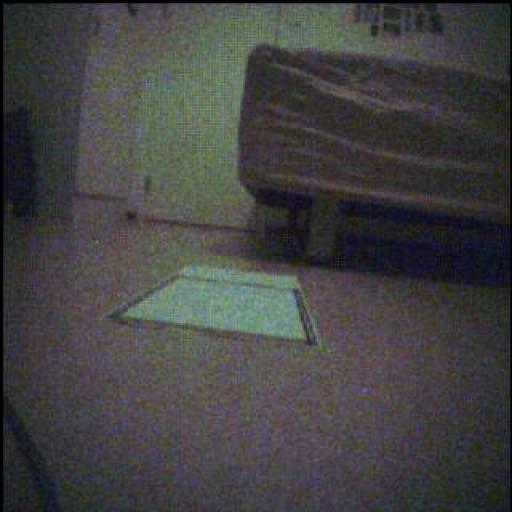pad: (110, 267, 321, 347)
